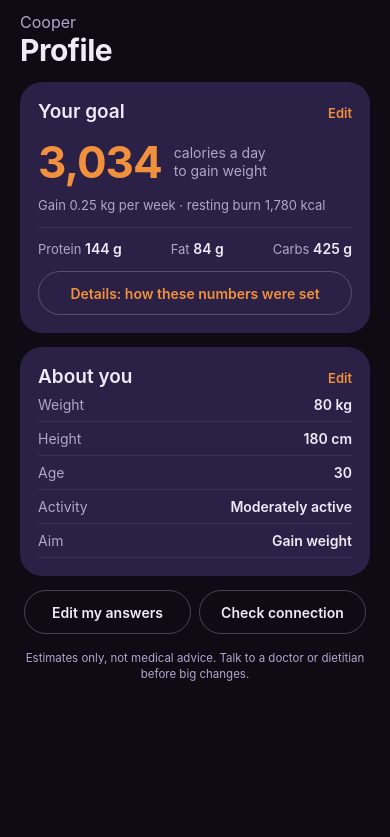
Test: ProfileScreen › tells the person when their pace or target was adjusted
Step 1. Click the button labelled "Details: how these numbers were set" → [195, 293], box [38,271,352,315]
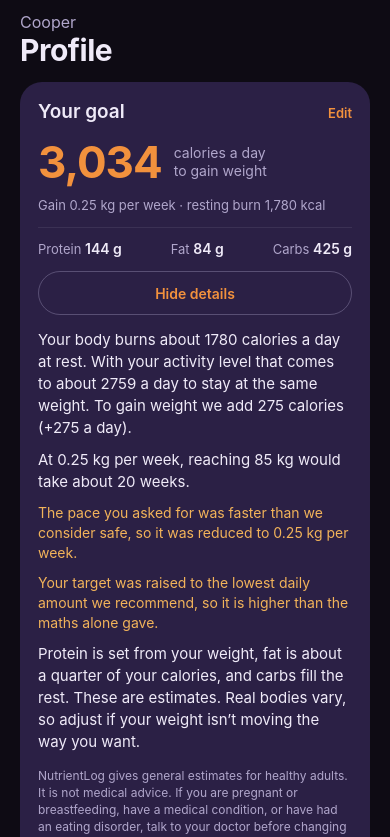
Expected: the text "faster than we consider safe" is shown, [38,504,327,541]
Expected: the text "lowest daily amount we recommend" is shown, [38,574,352,631]
